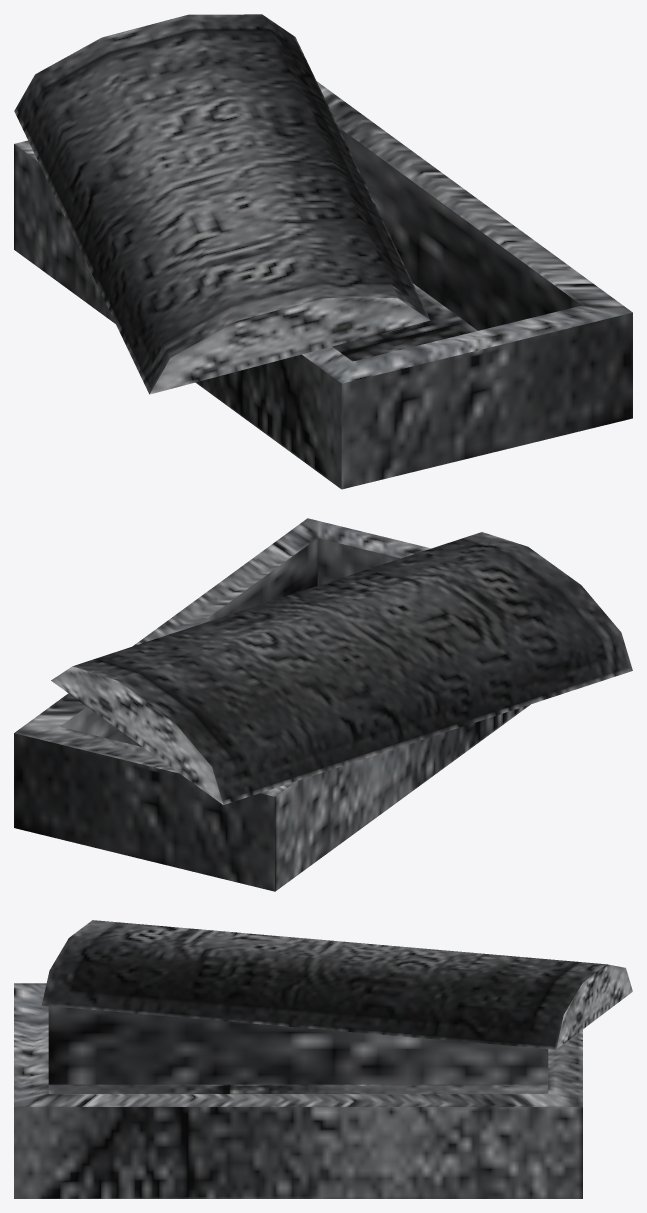
Rendered from Tomb01.obj.
The picture shows the model from 3 angles, top to bottom: view 1: azimuth 30°, elevation 25°; view 2: azimuth 150°, elevation 25°; view 3: azimuth 270°, elevation 25°; orthographic projection. The views are drawn at different scales.
Visible parts, largest first — view 1: Mesh_0; view 2: Mesh_0; view 3: Mesh_0.
Boxes of the visible parts, left/top/right/bottom form: Mesh_0: left=14, top=14, right=632, bottom=489; Mesh_0: left=14, top=518, right=632, bottom=891; Mesh_0: left=14, top=920, right=632, bottom=1198.
Bounding box in the file's own units: 1.8 × 0.7818 × 2.62.
Materials: 1 (1 with a texture image).
